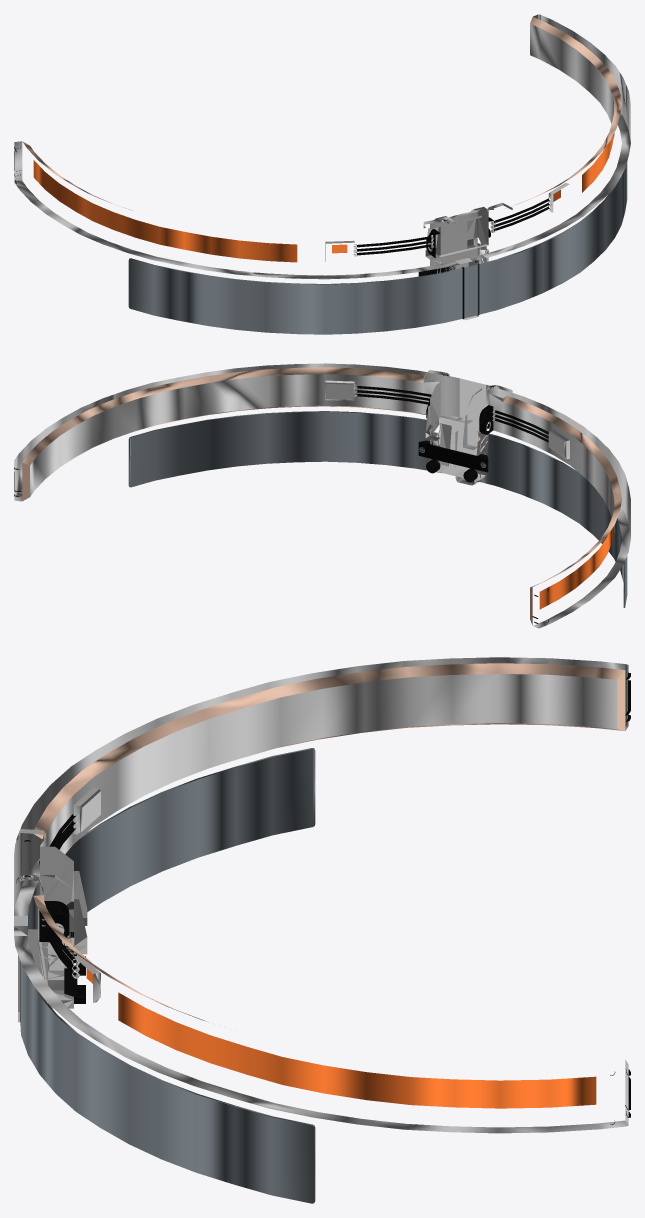
Rendered from hangar_business_v2_elevator_platform_01B.glb.
3 views of the same model, one above another, from view 1: azimuth 30°, elevation 25°; view 2: azimuth 150°, elevation 25°; view 3: azimuth 270°, elevation 25° (orthographic). The views are drawn at different scales.
Size of the model in its own units: 4.74 by 0.8399 by 2.97.
